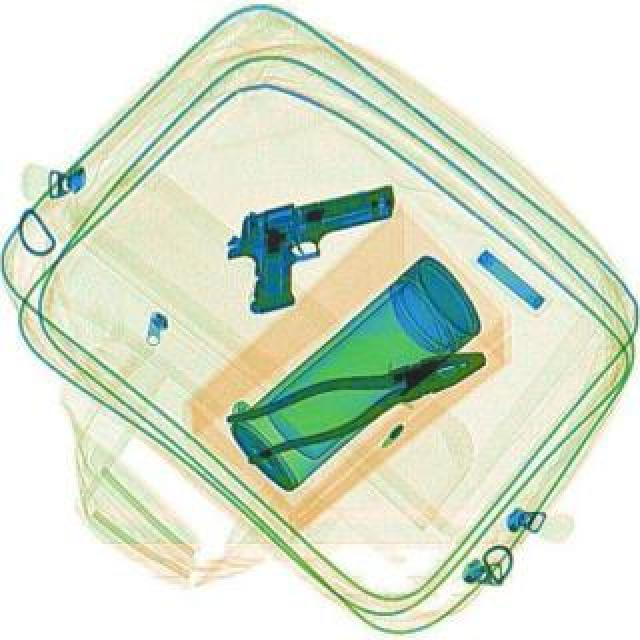gun: (216, 178, 416, 316)
wrench: (222, 326, 494, 466)
